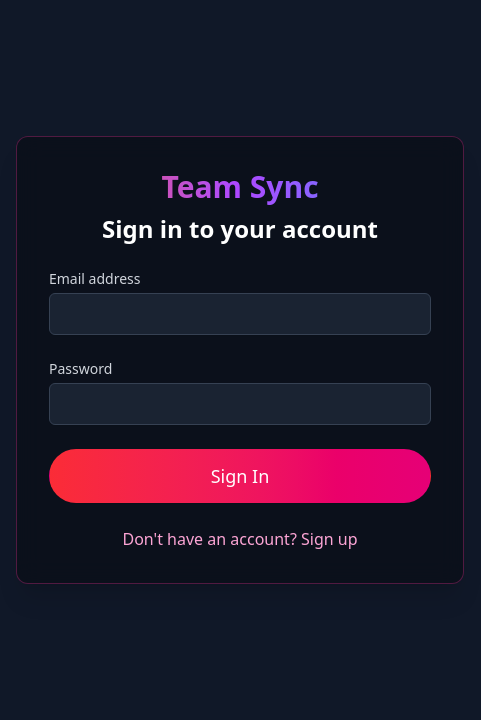
Auth validation › shows error for short password
Click the button "Don't have an account? Sign up" at (241, 539), box [123,527,358,551]
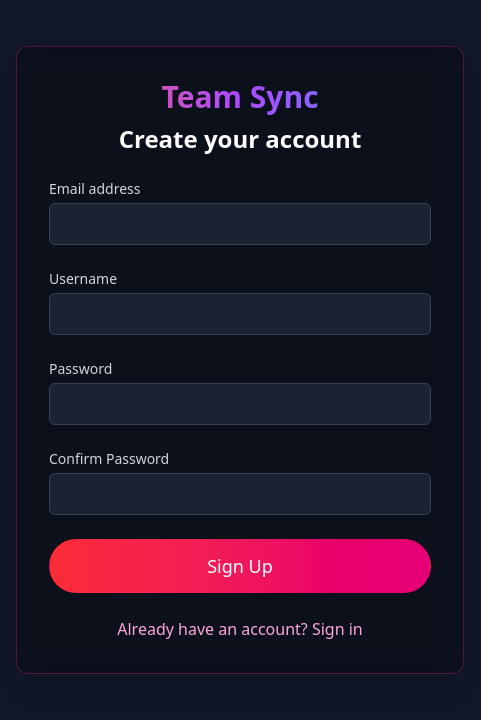
Type "short@example.com" into the field with test id "auth-email" at (240, 224), box [49,203,431,245]
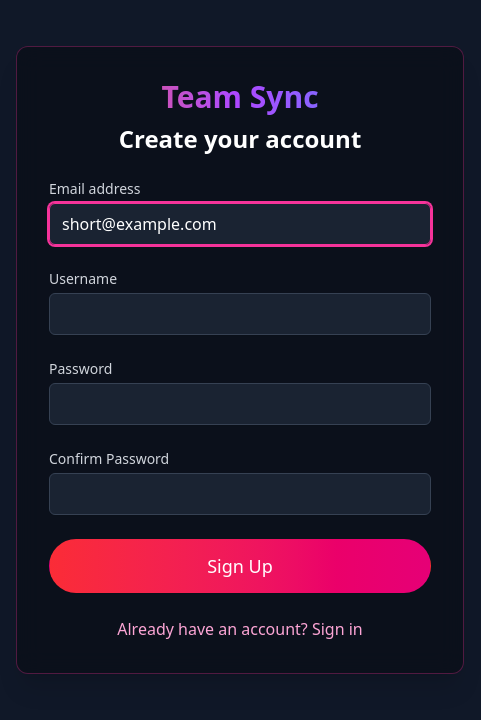
Type "shorter" into the field with test id "auth-username" at (240, 314), box [49,293,431,335]
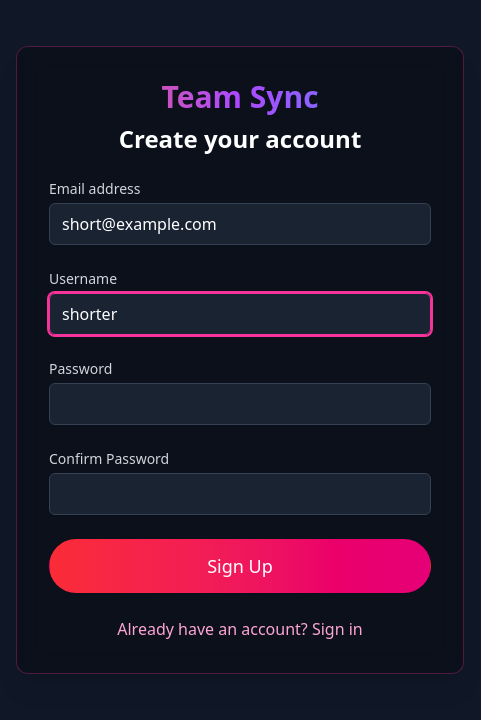
Type "123" into the password field with test id "auth-password" at (240, 404), box [49,383,431,425]
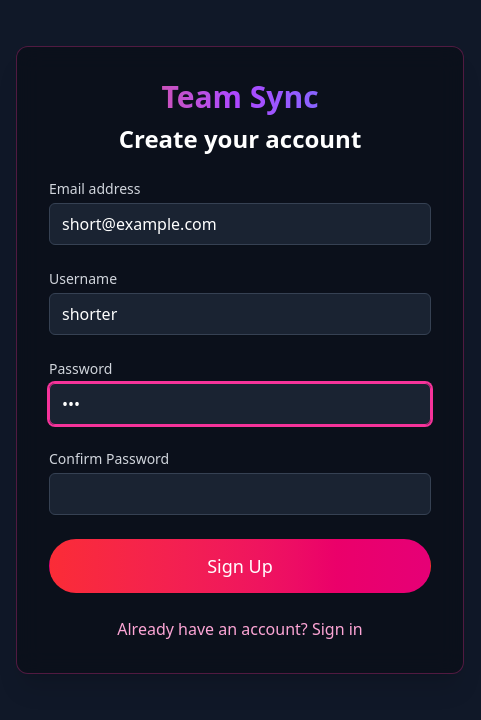
Type "123" into the password field with test id "auth-confirm-password" at (240, 494), box [49,473,431,515]
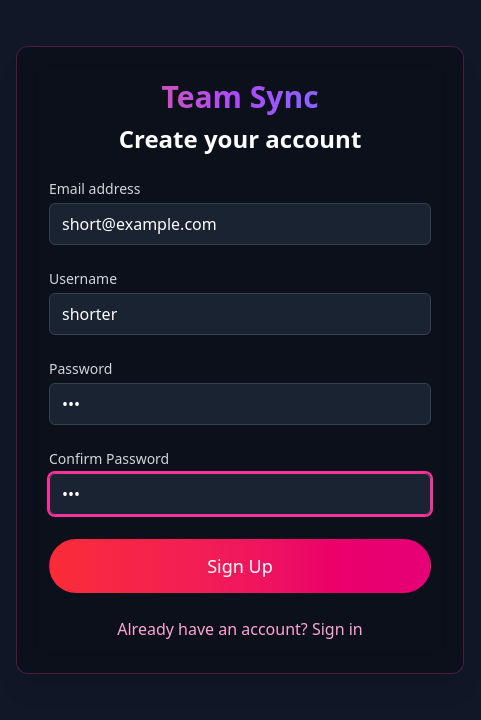
Click the button "Sign Up" at (240, 566), box [49,539,431,593]
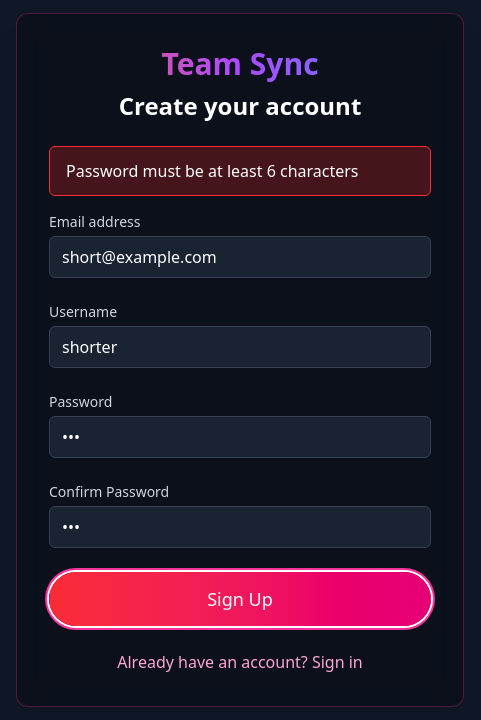
Result: the text "Password must be at least 6 characters" is shown at [49,146,431,196]
